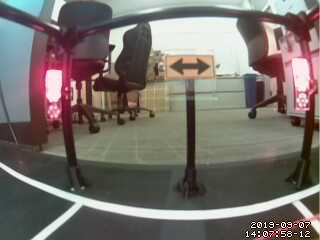Left_Right_sign: (165, 52, 217, 79)
Traffic_light_red: (292, 59, 317, 112), (44, 69, 63, 116)
